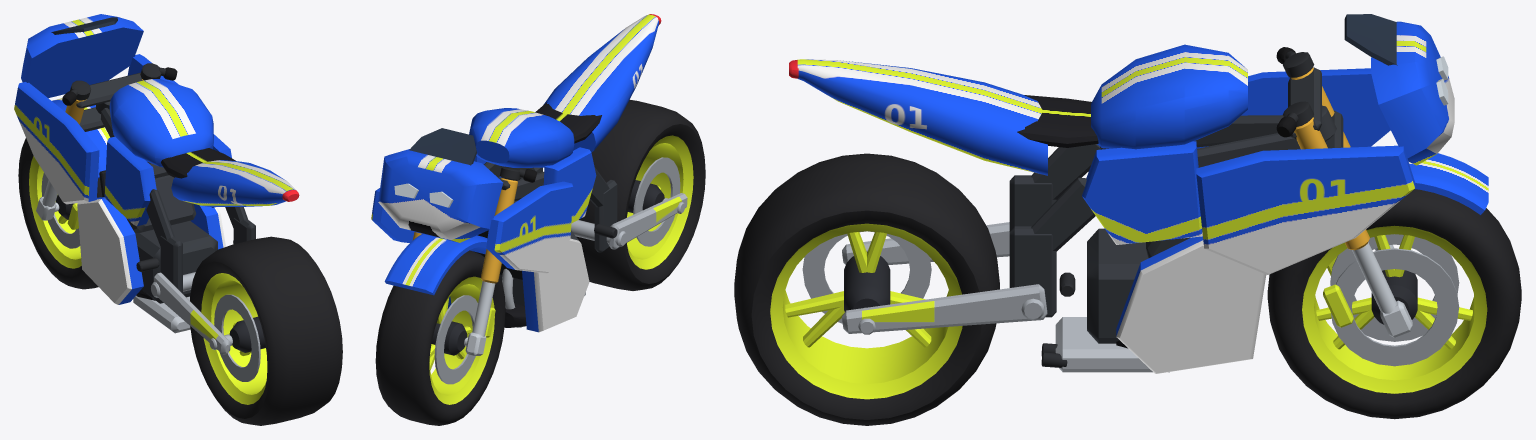
The model's file is MotorcycleTag_SuperBike.obj.
3 views of the same model, side by side, from view 1: azimuth 30°, elevation 25°; view 2: azimuth 150°, elevation 25°; view 3: azimuth 270°, elevation 25° (orthographic). The views are drawn at different scales.
Visible parts, largest first — view 1: Bodywork, RearWheel, FrontWheel, Engine, Frame, Fork, Swingarm, Seat, Handlebars, Exhaust, FrontFender, Windshield; view 2: Bodywork, FrontWheel, RearWheel, FrontFender, Fork, Frame, Swingarm, Windshield, Seat, Engine, Headlights, Handlebars (+1 smaller); view 3: Bodywork, RearWheel, FrontWheel, Frame, Swingarm, Fork, Engine, Exhaust, FrontFender, Seat, Windshield, Handlebars.
Part boxes in pixels (x1,y1,x2,y2): Bodywork: [14, 14, 295, 304]; RearWheel: [190, 236, 342, 425]; FrontWheel: [18, 138, 102, 289]; Engine: [99, 162, 217, 303]; Frame: [96, 101, 255, 293]; Fork: [36, 72, 143, 229]; Swingarm: [151, 272, 232, 354]; Seat: [161, 148, 236, 178]; Handlebars: [62, 63, 177, 105]; Exhaust: [133, 295, 190, 333]; FrontFender: [52, 98, 109, 178]; Windshield: [51, 17, 117, 34]; Bodywork: [371, 14, 659, 332]; FrontWheel: [375, 250, 505, 425]; RearWheel: [576, 100, 705, 290]; FrontFender: [384, 234, 487, 295]; Fork: [412, 176, 517, 355]; Frame: [484, 162, 617, 252]; Swingarm: [571, 193, 687, 249]; Windshield: [409, 128, 476, 165]; Seat: [535, 102, 601, 143]; Engine: [473, 200, 578, 306]; Headlights: [394, 183, 453, 207]; Handlebars: [499, 166, 536, 182]; Bodywork: [797, 21, 1454, 373]; RearWheel: [734, 153, 999, 425]; FrontWheel: [1267, 189, 1521, 419]; Frame: [1009, 105, 1336, 317]; Swingarm: [842, 222, 1047, 334]; Fork: [1288, 67, 1412, 337]; Engine: [1087, 228, 1190, 343]; Exhaust: [1041, 317, 1169, 372]; FrontFender: [1409, 153, 1488, 214]; Seat: [1017, 95, 1098, 147]; Windshield: [1344, 14, 1397, 65]; Handlebars: [1276, 47, 1314, 137].
Size of the model in its own units: 2.14 by 4.35 by 8.06.
Materials: 1 (1 with a texture image).
